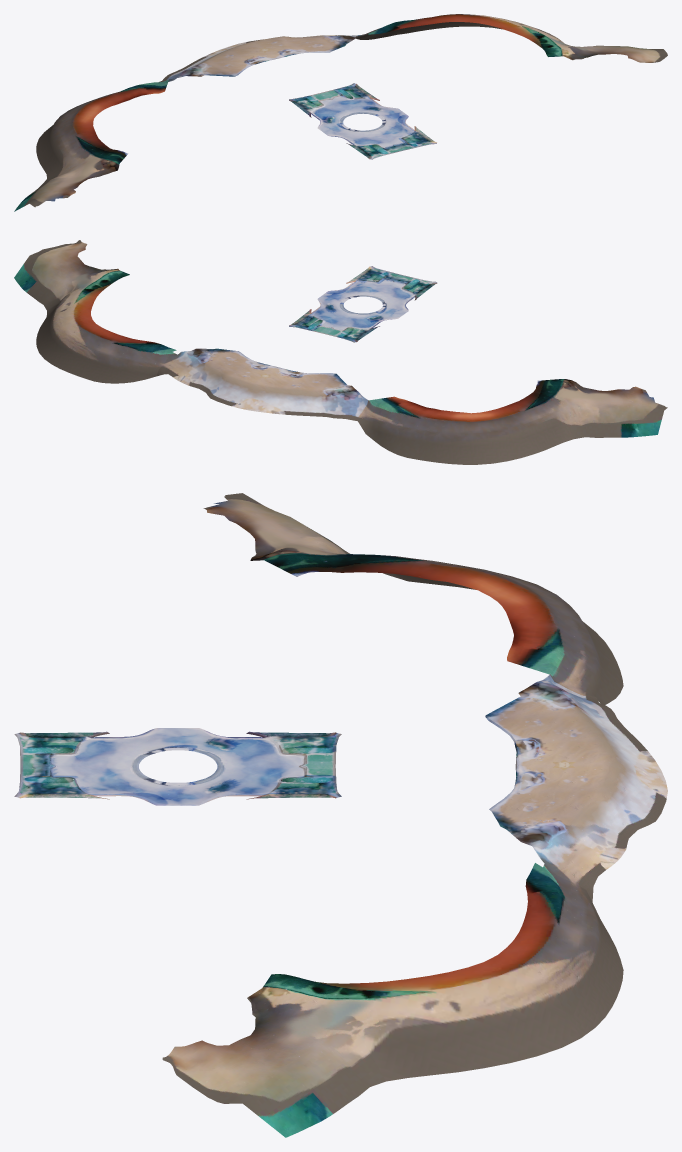
File: pref_sm_beach_tech_hunt_bk_winter_Terrains_Part_03_lv1.fbx
The picture shows the model from 3 angles, top to bottom: view 1: azimuth 30°, elevation 25°; view 2: azimuth 150°, elevation 25°; view 3: azimuth 270°, elevation 25°; orthographic projection. The views are drawn at different scales.
Parts seen in each view (by area): view 1: sm_beach_tech_hunt_bk_winter_Terrains_Part_03e_lv1, sm_beach_tech_hunt_bk_winter_Terrains_Part_03f_lv1, sm_beach_tech_hunt_bk_winter_Terrains_Part_03d_lv1, sm_beach_tech_hunt_bk_winter_Terrains_Part_03a_lv1, sm_beach_tech_hunt_bk_winter_Terrains_Part_03b_lv1; view 2: sm_beach_tech_hunt_bk_winter_Terrains_Part_03e_lv1, sm_beach_tech_hunt_bk_winter_Terrains_Part_03f_lv1, sm_beach_tech_hunt_bk_winter_Terrains_Part_03d_lv1, sm_beach_tech_hunt_bk_winter_Terrains_Part_03a_lv1, sm_beach_tech_hunt_bk_winter_Terrains_Part_03b_lv1; view 3: sm_beach_tech_hunt_bk_winter_Terrains_Part_03f_lv1, sm_beach_tech_hunt_bk_winter_Terrains_Part_03d_lv1, sm_beach_tech_hunt_bk_winter_Terrains_Part_03e_lv1, sm_beach_tech_hunt_bk_winter_Terrains_Part_03a_lv1, sm_beach_tech_hunt_bk_winter_Terrains_Part_03b_lv1.
Part boxes in pixels (bbox=[...]): sm_beach_tech_hunt_bk_winter_Terrains_Part_03e_lv1: bbox=[14, 79, 168, 211]; sm_beach_tech_hunt_bk_winter_Terrains_Part_03f_lv1: bbox=[359, 14, 667, 62]; sm_beach_tech_hunt_bk_winter_Terrains_Part_03d_lv1: bbox=[159, 35, 363, 82]; sm_beach_tech_hunt_bk_winter_Terrains_Part_03a_lv1: bbox=[311, 96, 414, 147]; sm_beach_tech_hunt_bk_winter_Terrains_Part_03b_lv1: bbox=[289, 83, 436, 159]; sm_beach_tech_hunt_bk_winter_Terrains_Part_03e_lv1: bbox=[358, 379, 667, 464]; sm_beach_tech_hunt_bk_winter_Terrains_Part_03f_lv1: bbox=[14, 240, 176, 383]; sm_beach_tech_hunt_bk_winter_Terrains_Part_03d_lv1: bbox=[156, 348, 368, 421]; sm_beach_tech_hunt_bk_winter_Terrains_Part_03a_lv1: bbox=[311, 279, 414, 330]; sm_beach_tech_hunt_bk_winter_Terrains_Part_03b_lv1: bbox=[289, 266, 437, 342]; sm_beach_tech_hunt_bk_winter_Terrains_Part_03f_lv1: bbox=[162, 863, 623, 1137]; sm_beach_tech_hunt_bk_winter_Terrains_Part_03d_lv1: bbox=[485, 675, 667, 901]; sm_beach_tech_hunt_bk_winter_Terrains_Part_03e_lv1: bbox=[203, 493, 623, 704]; sm_beach_tech_hunt_bk_winter_Terrains_Part_03a_lv1: bbox=[52, 728, 303, 805]; sm_beach_tech_hunt_bk_winter_Terrains_Part_03b_lv1: bbox=[14, 732, 341, 798].
Bounding box in the file's own units: 194 × 9.48 × 86.4.
Materials: 1 (1 with a texture image).
